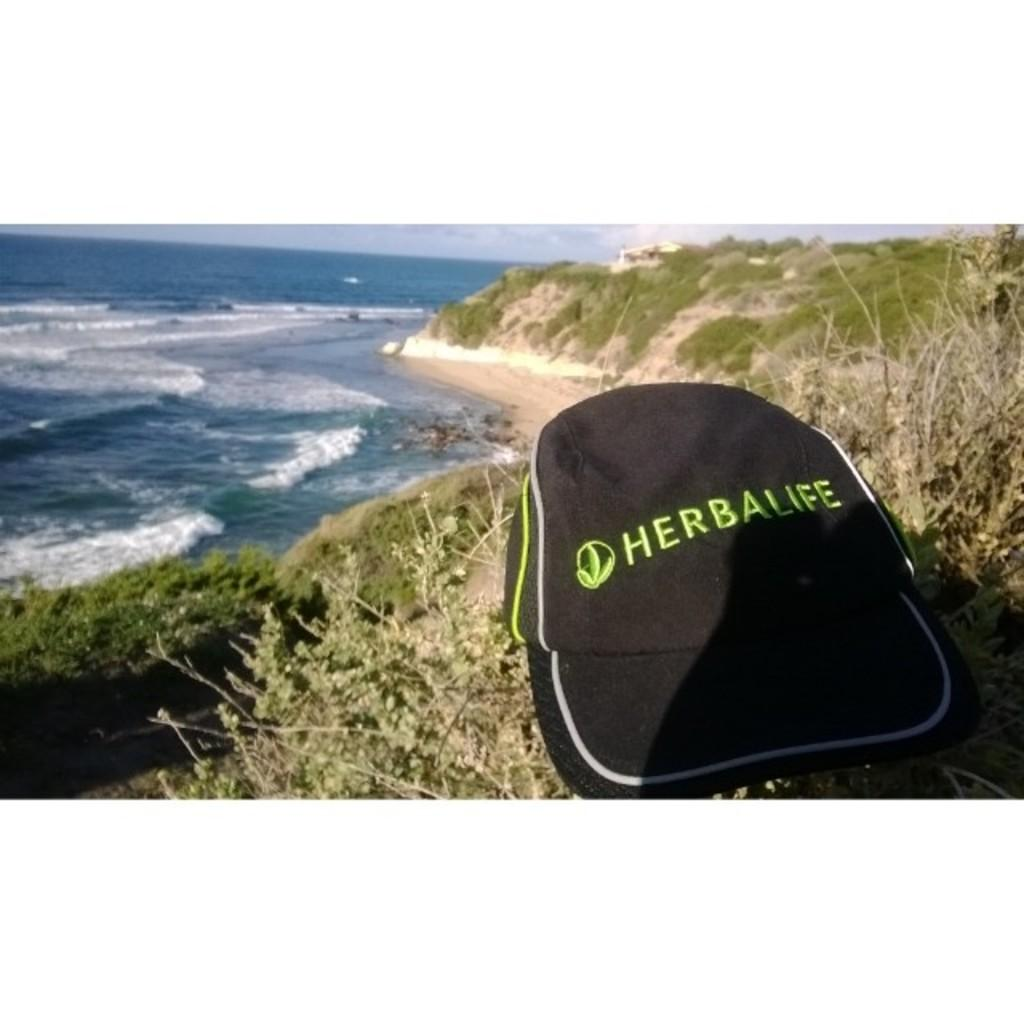Hat: (500, 380, 984, 800)
